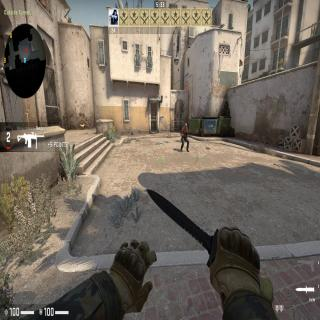T-Body: (181, 122, 190, 152)
T-Head: (184, 123, 188, 130)
